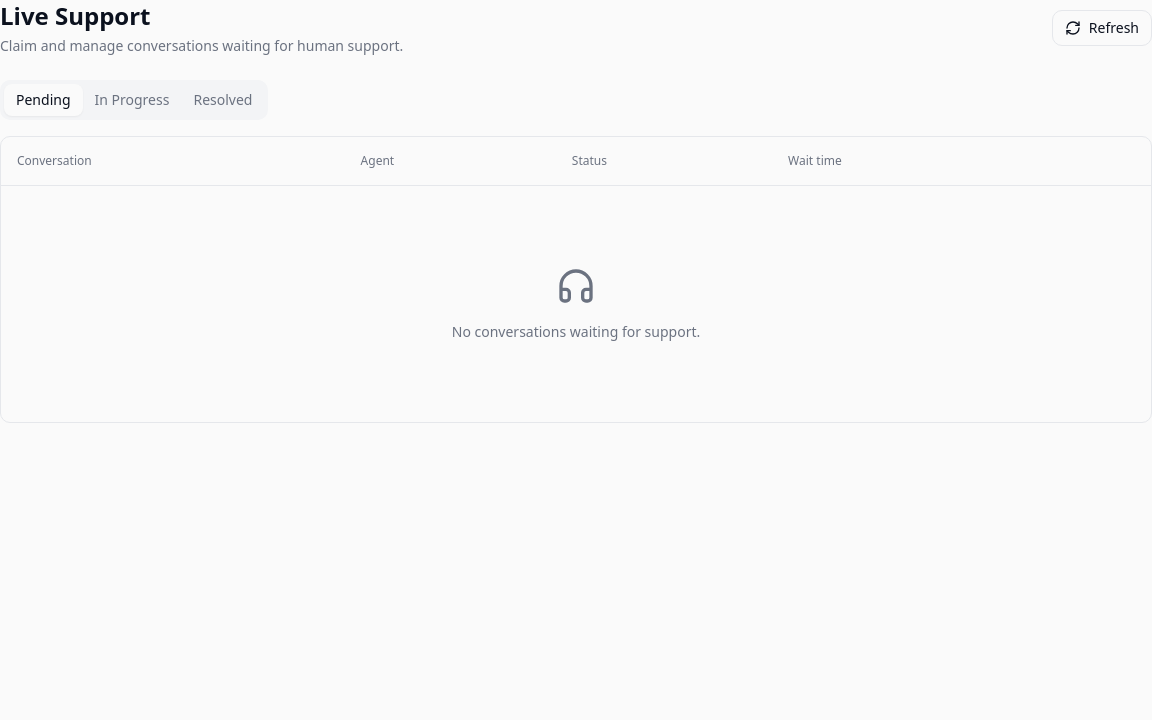
Test: TranscriptDialog › viewTranscript_loadsAndShowsMessages
Click the tab "Resolved": (223, 100) [181,84,264,116]
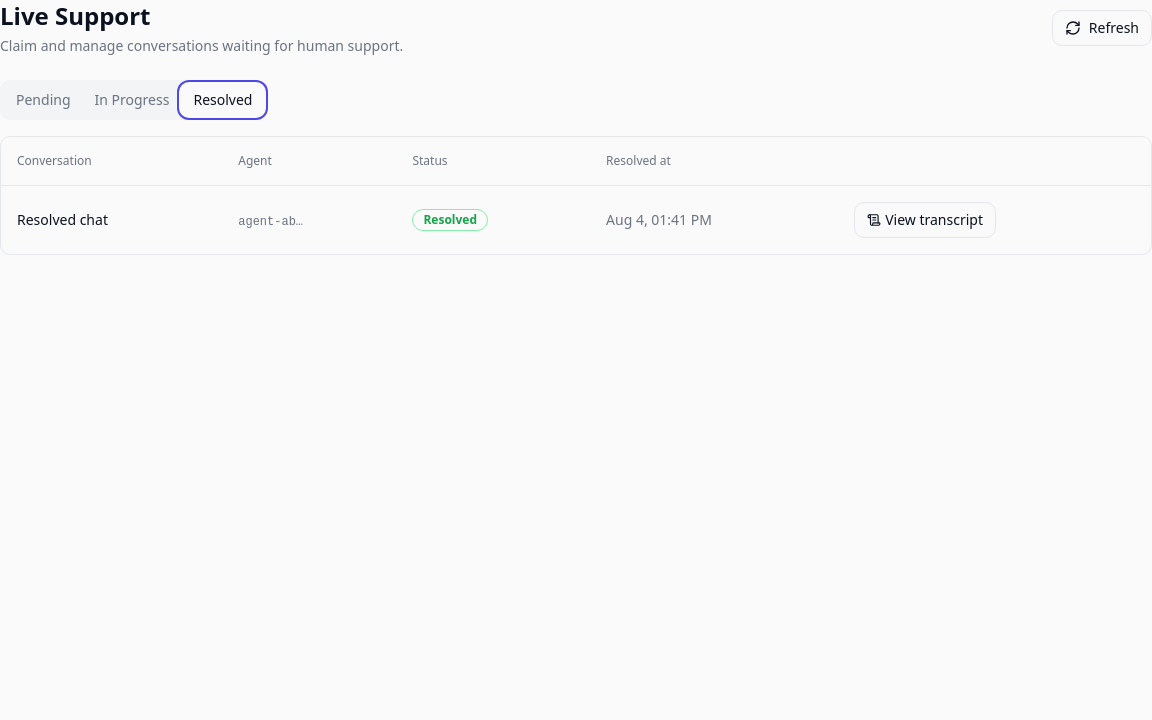
Click the button "View transcript": (925, 220) [854,202,996,238]
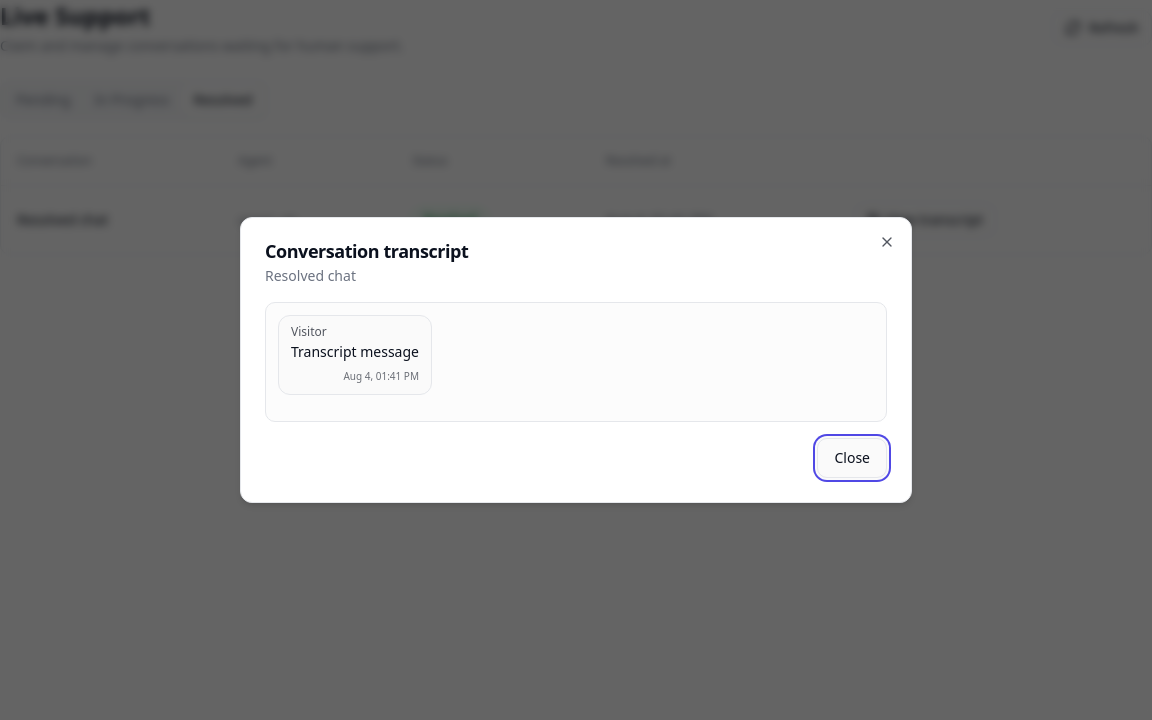
Result: the text "Transcript message" is shown at [291,342,419,362]
